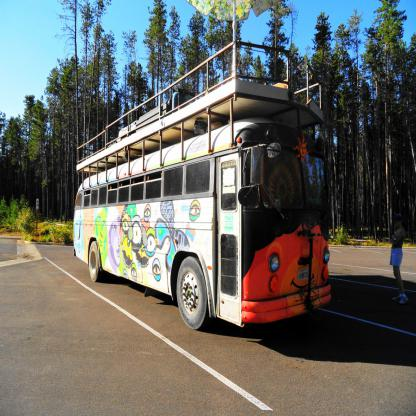Bus: (73, 38, 331, 333)
